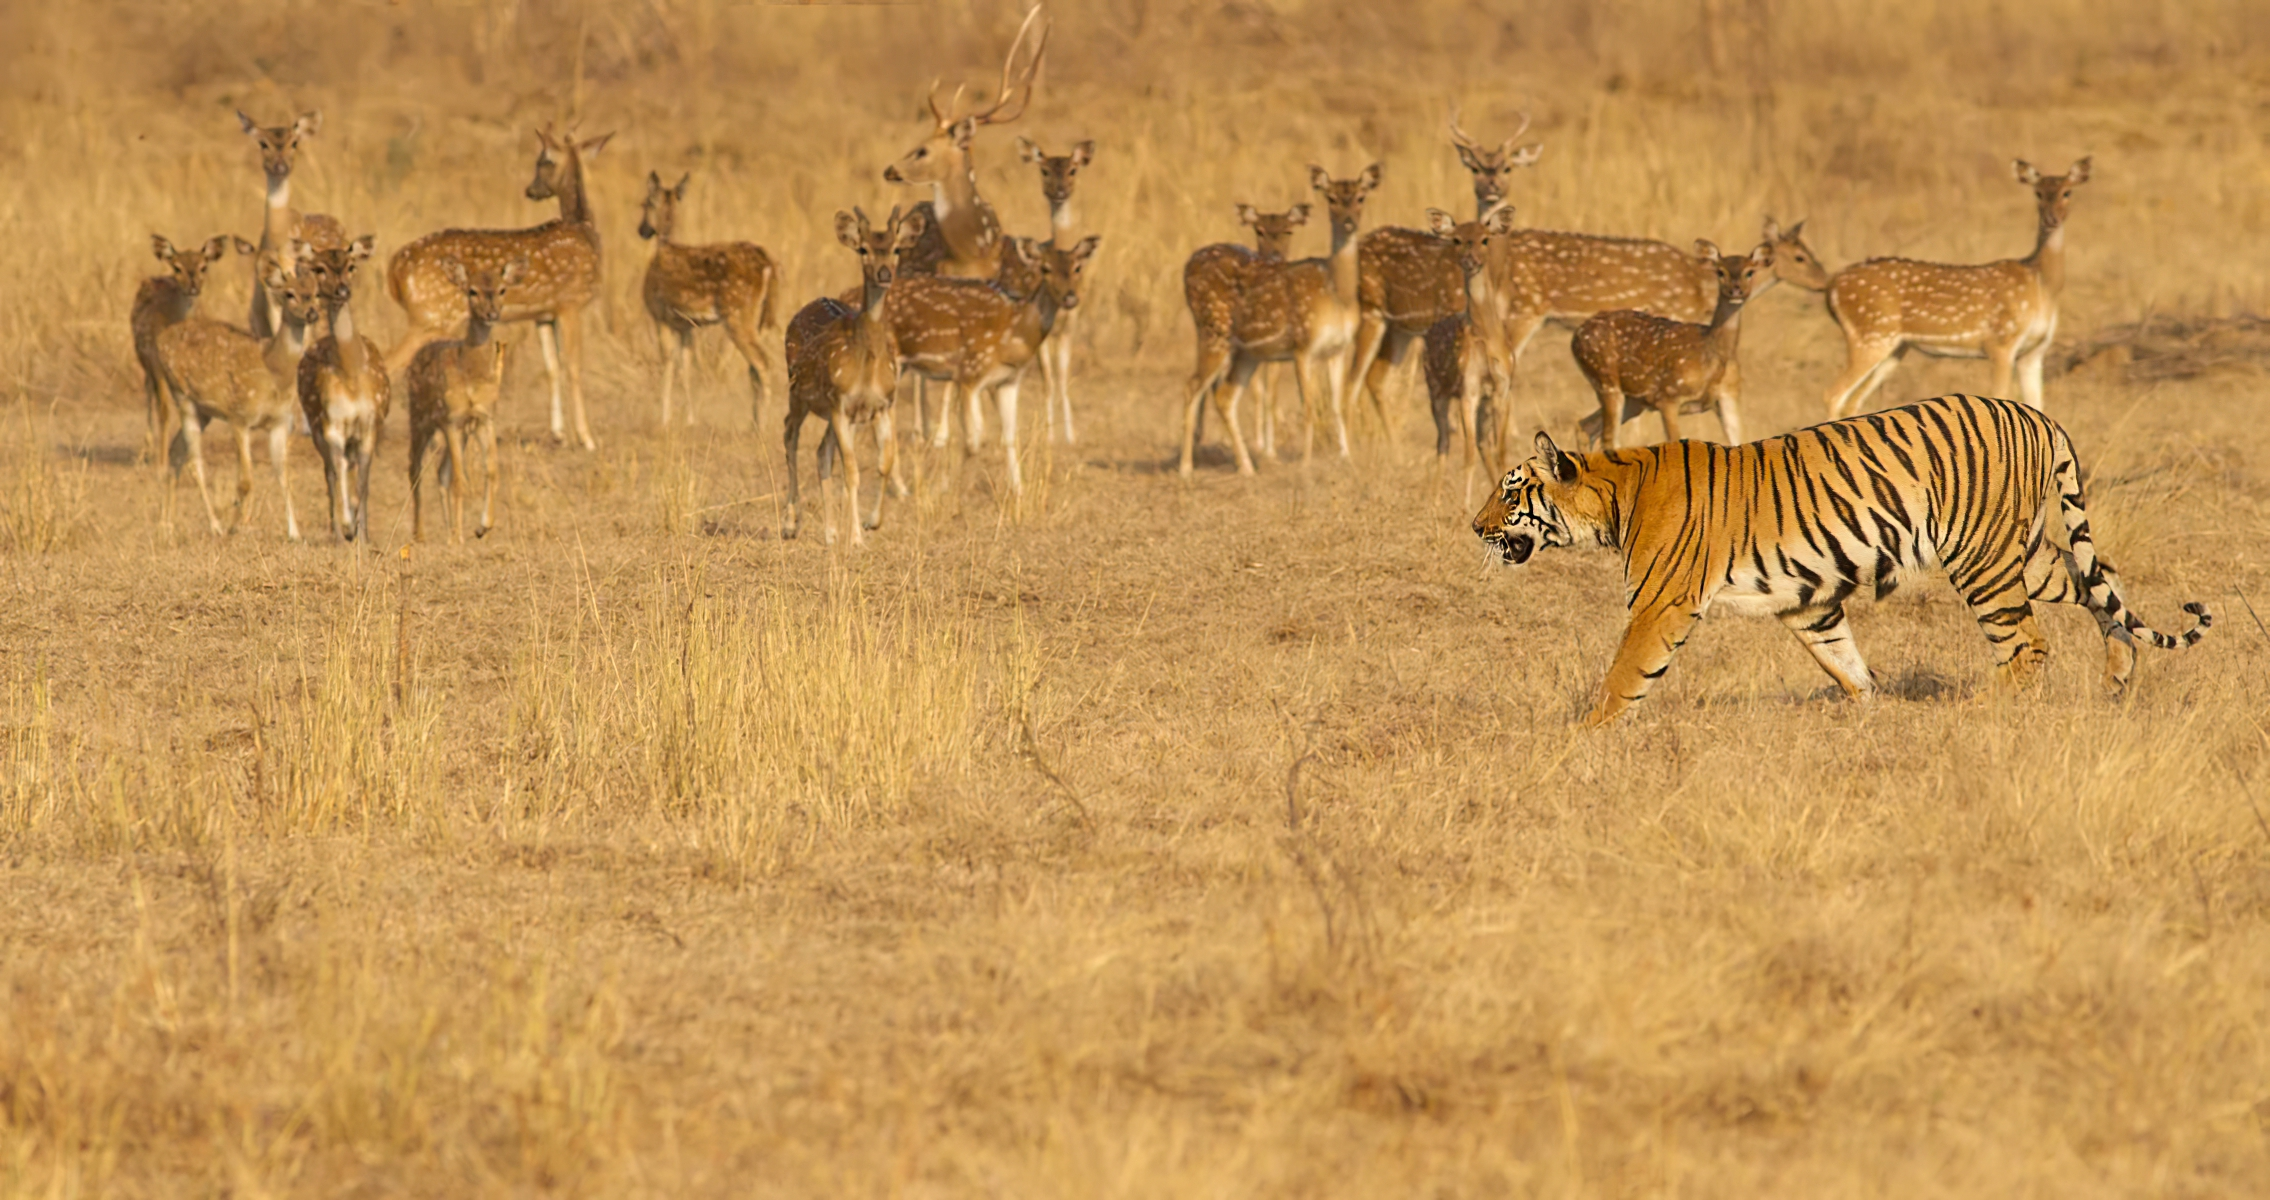tiger: (1401, 418, 2241, 761)
